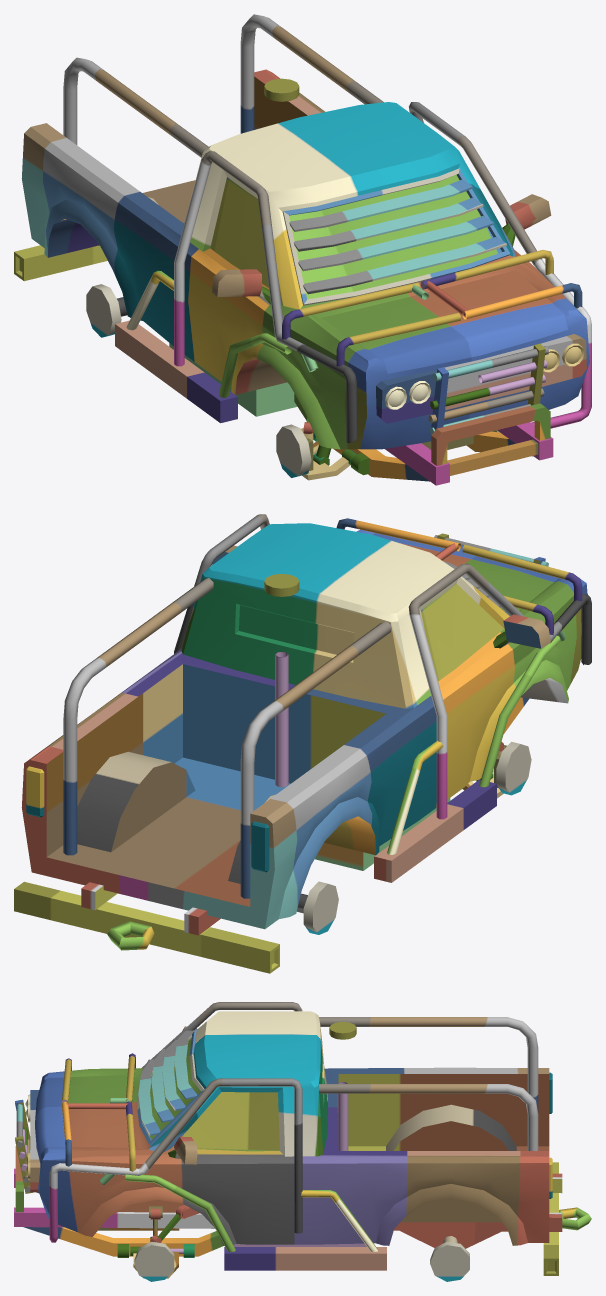
The model's file is Pickup_v1.FBX.
3 renders of one model, top to bottom at view 1: azimuth 30°, elevation 25°; view 2: azimuth 150°, elevation 25°; view 3: azimuth 270°, elevation 25°, orthographic. The views are drawn at different scales.
Visible parts, largest first — view 1: Pickup_v1; view 2: Pickup_v1; view 3: Pickup_v1.
Part boxes in pixels (x1,y1,x2,y2): Pickup_v1: [14, 14, 591, 485]; Pickup_v1: [14, 514, 591, 973]; Pickup_v1: [14, 1002, 591, 1281].
Size of the model in its own units: 3.45 by 2.71 by 6.69.
